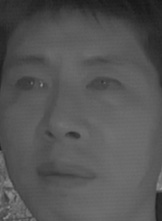eye: (84, 76, 125, 96), (13, 74, 50, 95)
mouth: (29, 157, 95, 197)
